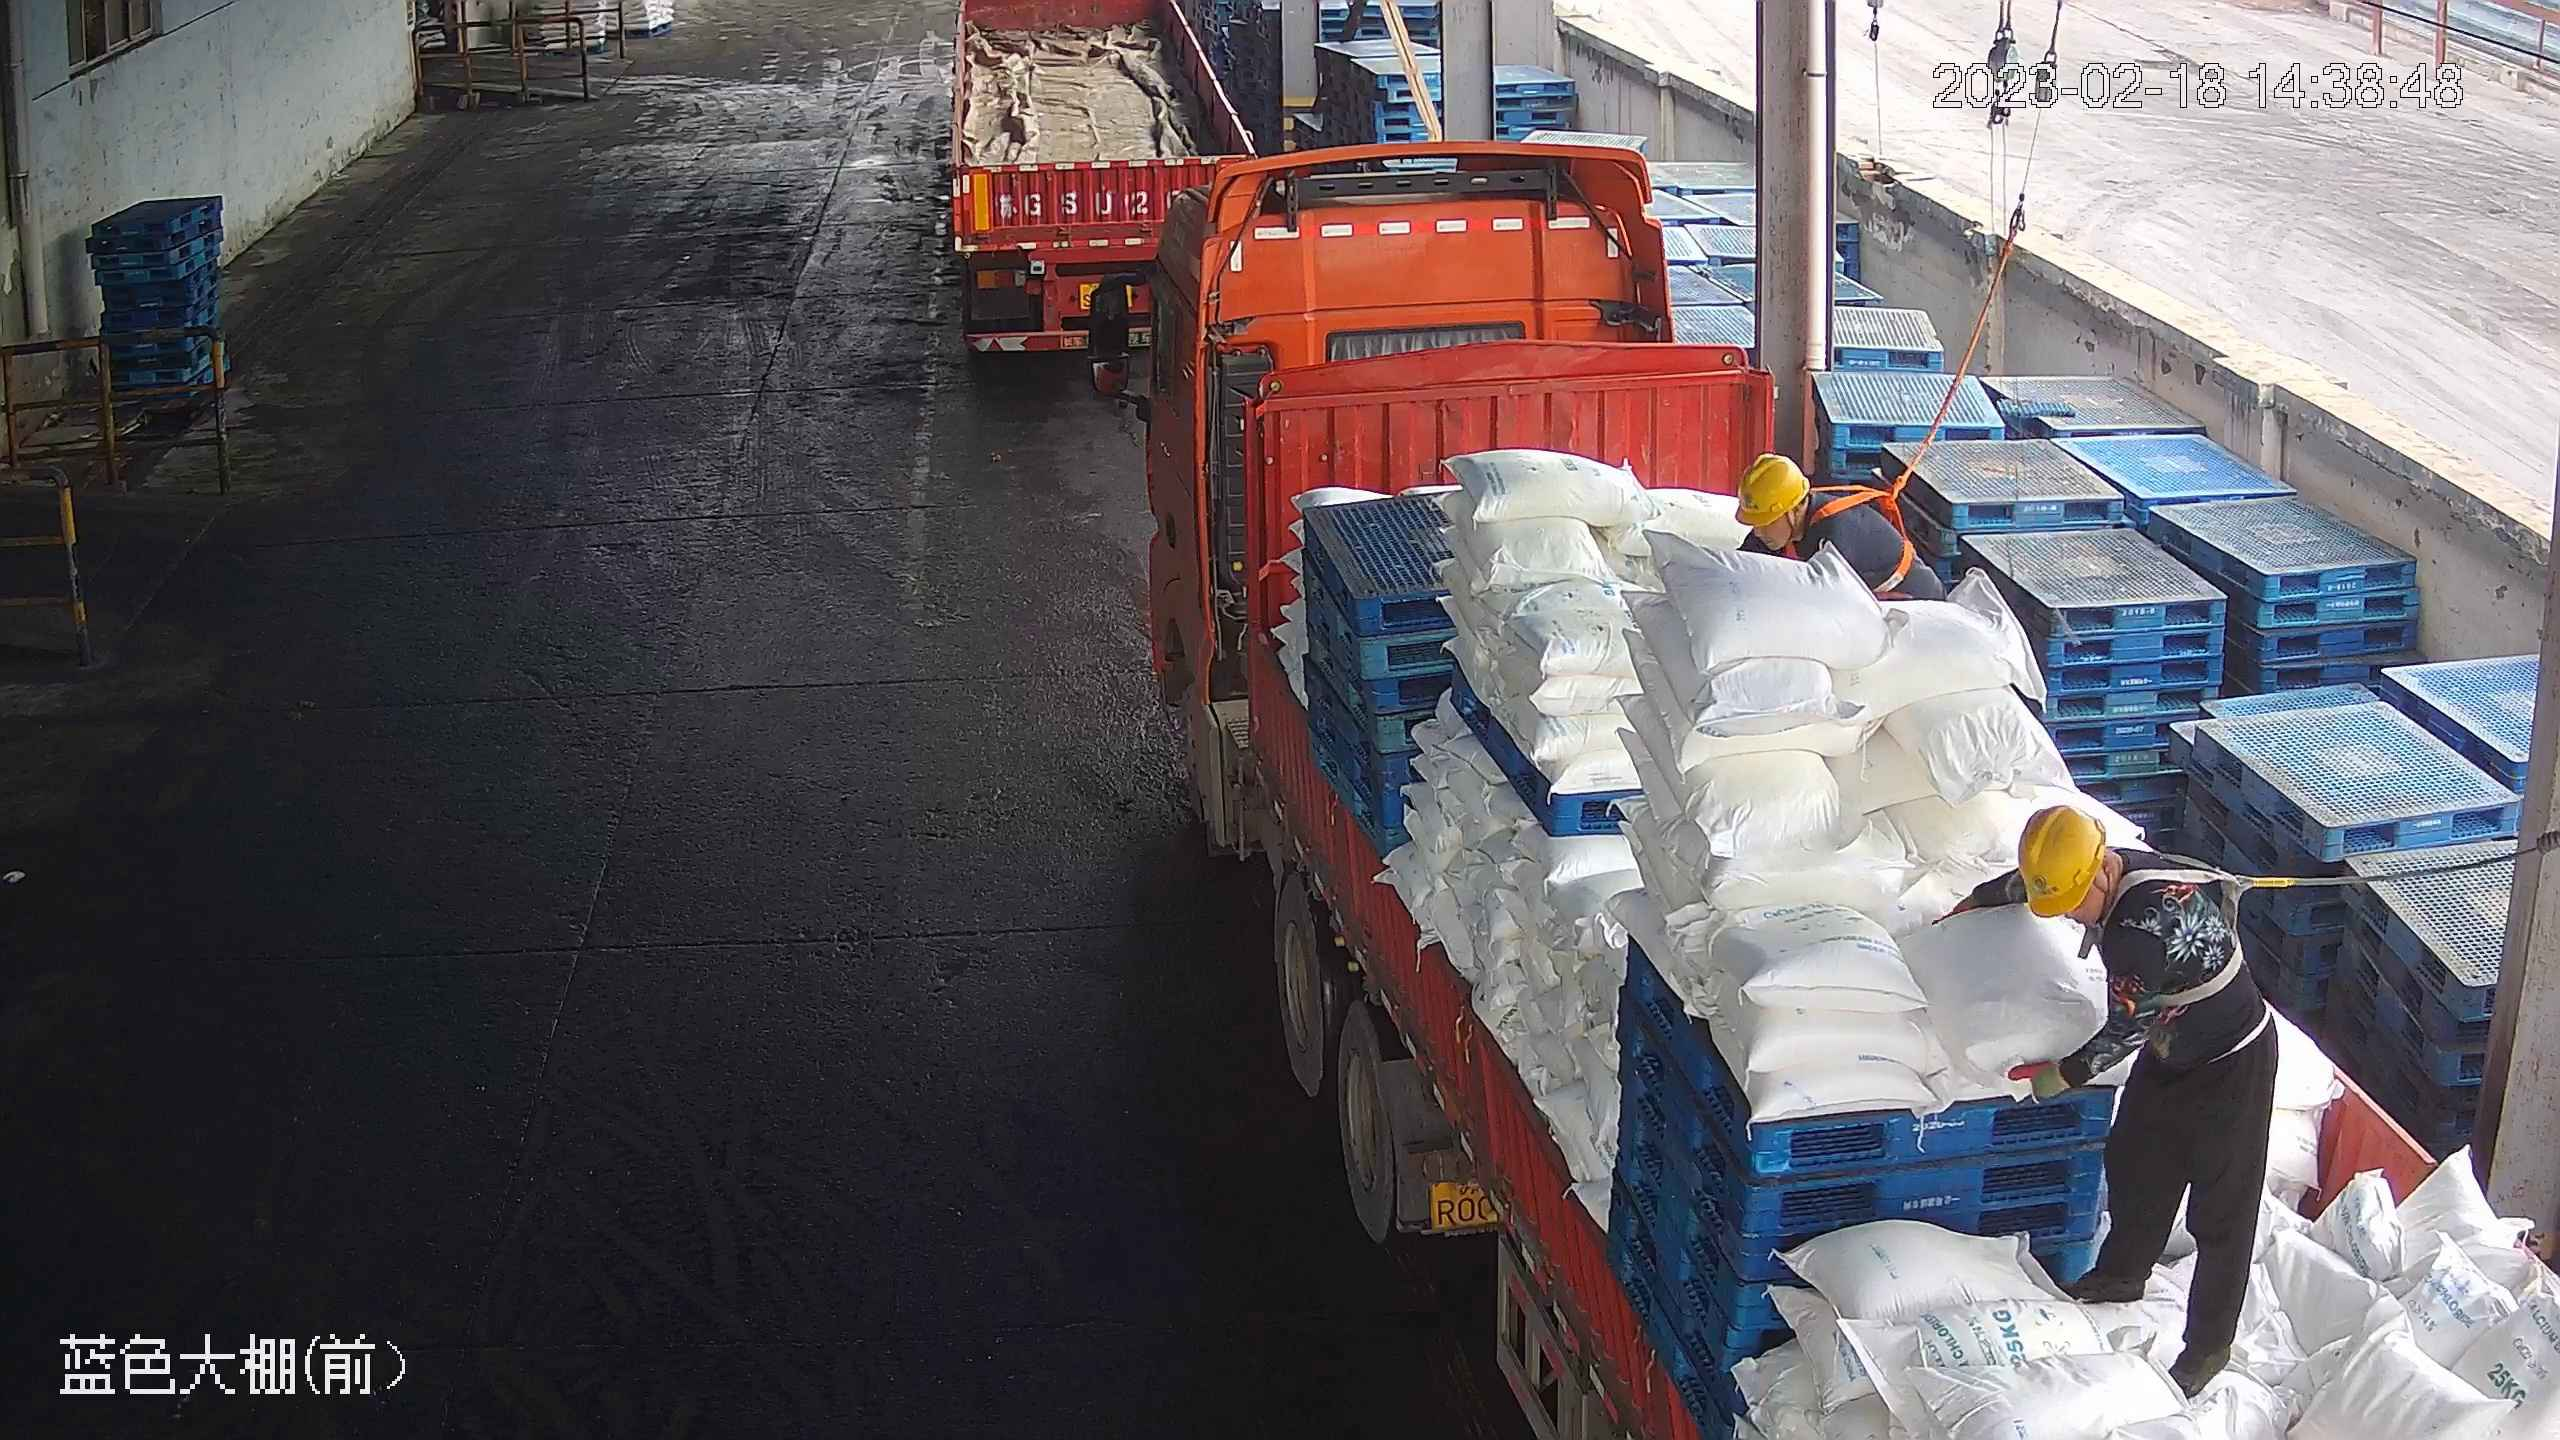belt: (2092, 853, 2280, 1030), (1813, 484, 1919, 593)
head: (2013, 802, 2215, 980), (1736, 452, 1894, 557)
helmet: (2015, 803, 2110, 916), (1733, 451, 1810, 526)
people: (1941, 799, 2284, 1395)
truck: (1142, 154, 2557, 1436), (941, 6, 1267, 379)
